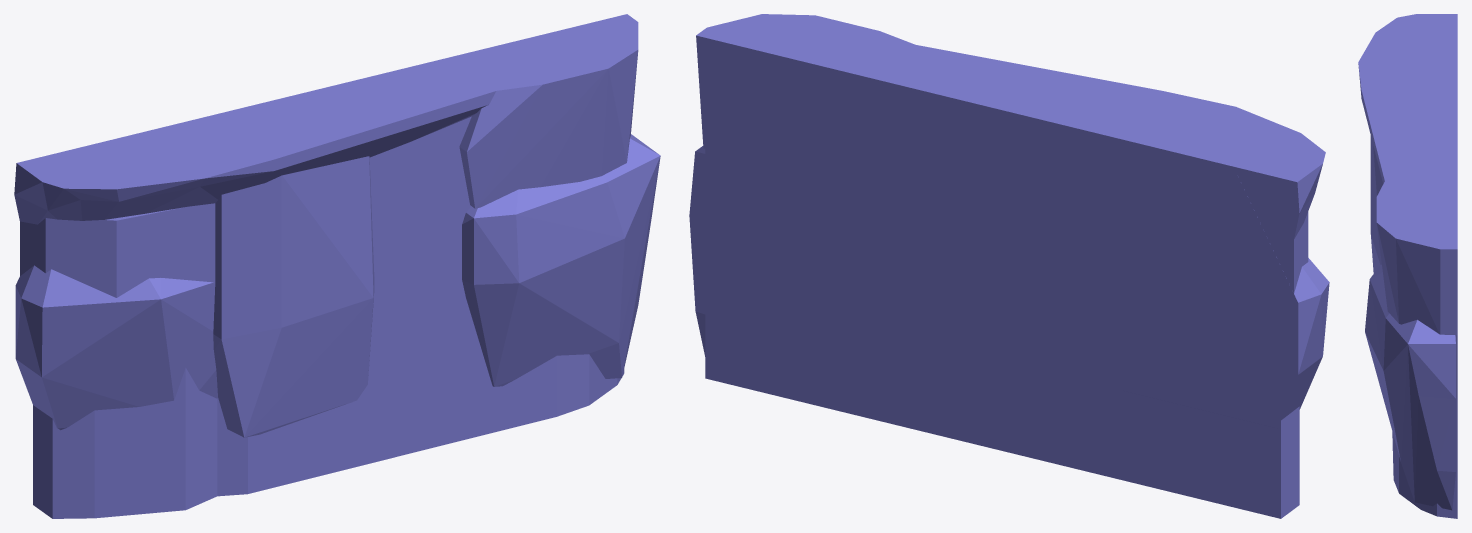
The model's file is Cliff_Wall_01_Collider_01.FBX.
3 renders of one model, left to right at view 1: azimuth 30°, elevation 25°; view 2: azimuth 150°, elevation 25°; view 3: azimuth 270°, elevation 25°, orthographic. The views are drawn at different scales.
Parts seen in each view (by area): view 1: COLLIDER1, COLLIDER7, COLLIDER2, COLLIDER4, COLLIDER3, COLLIDER5, COLLIDER6, COLLIDER8; view 2: COLLIDER1, COLLIDER2, COLLIDER5, COLLIDER3, COLLIDER7, COLLIDER6, COLLIDER4, COLLIDER8; view 3: COLLIDER2, COLLIDER4, COLLIDER3, COLLIDER1, COLLIDER7.
Boxes of the visible parts, x1=… form: COLLIDER1: x1=217, y1=116, x2=624, y2=496; COLLIDER7: x1=213, y1=156, x2=374, y2=437; COLLIDER2: x1=14, y1=54, x2=511, y2=224; COLLIDER4: x1=462, y1=134, x2=660, y2=386; COLLIDER3: x1=442, y1=14, x2=638, y2=208; COLLIDER5: x1=15, y1=265, x2=217, y2=430; COLLIDER6: x1=33, y1=368, x2=217, y2=518; COLLIDER8: x1=20, y1=203, x2=215, y2=297; COLLIDER1: x1=705, y1=149, x2=1138, y2=479; COLLIDER2: x1=853, y1=43, x2=1325, y2=260; COLLIDER5: x1=1122, y1=158, x2=1329, y2=428; COLLIDER3: x1=696, y1=14, x2=921, y2=193; COLLIDER7: x1=940, y1=178, x2=1142, y2=415; COLLIDER6: x1=1121, y1=332, x2=1299, y2=518; COLLIDER4: x1=689, y1=146, x2=705, y2=356; COLLIDER8: x1=1277, y1=212, x2=1308, y2=293; COLLIDER2: x1=1358, y1=14, x2=1457, y2=187; COLLIDER4: x1=1365, y1=265, x2=1455, y2=510; COLLIDER3: x1=1376, y1=178, x2=1457, y2=335; COLLIDER1: x1=1392, y1=335, x2=1457, y2=518; COLLIDER7: x1=1370, y1=135, x2=1383, y2=273.
Size of the model in its own units: 1256 by 661 by 218.
